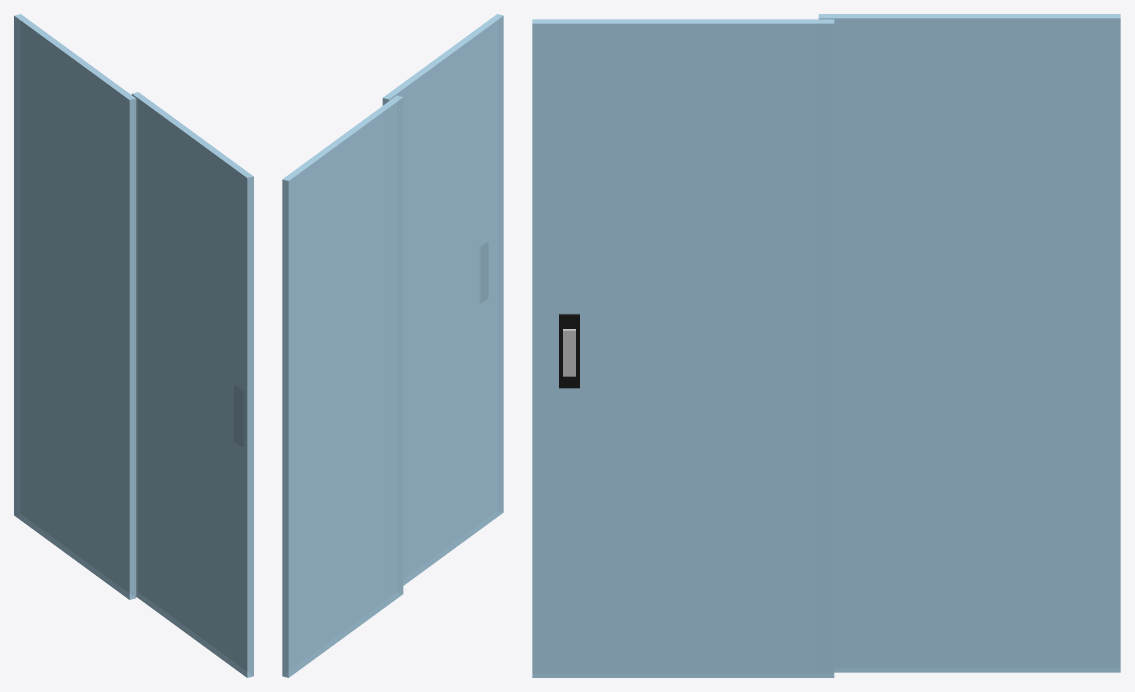
File: door.fbx
3 renders of one model, left to right at view 1: azimuth 30°, elevation 25°; view 2: azimuth 150°, elevation 25°; view 3: azimuth 270°, elevation 25°, orthographic. The views are drawn at different scales.
Visible parts, largest first — view 1: Cube, Cube.002; view 2: Cube, Cube.002; view 3: Cube.002, Cube.
Boxes of the visible parts, <box> form: Cube: <box>14,14,136,599</box>; Cube.002: <box>131,92,253,677</box>; Cube: <box>282,95,403,677</box>; Cube.002: <box>382,14,503,585</box>; Cube.002: <box>532,19,834,677</box>; Cube: <box>818,14,1120,672</box>.
Size of the model in its own units: 9.69 by 239 by 195.
